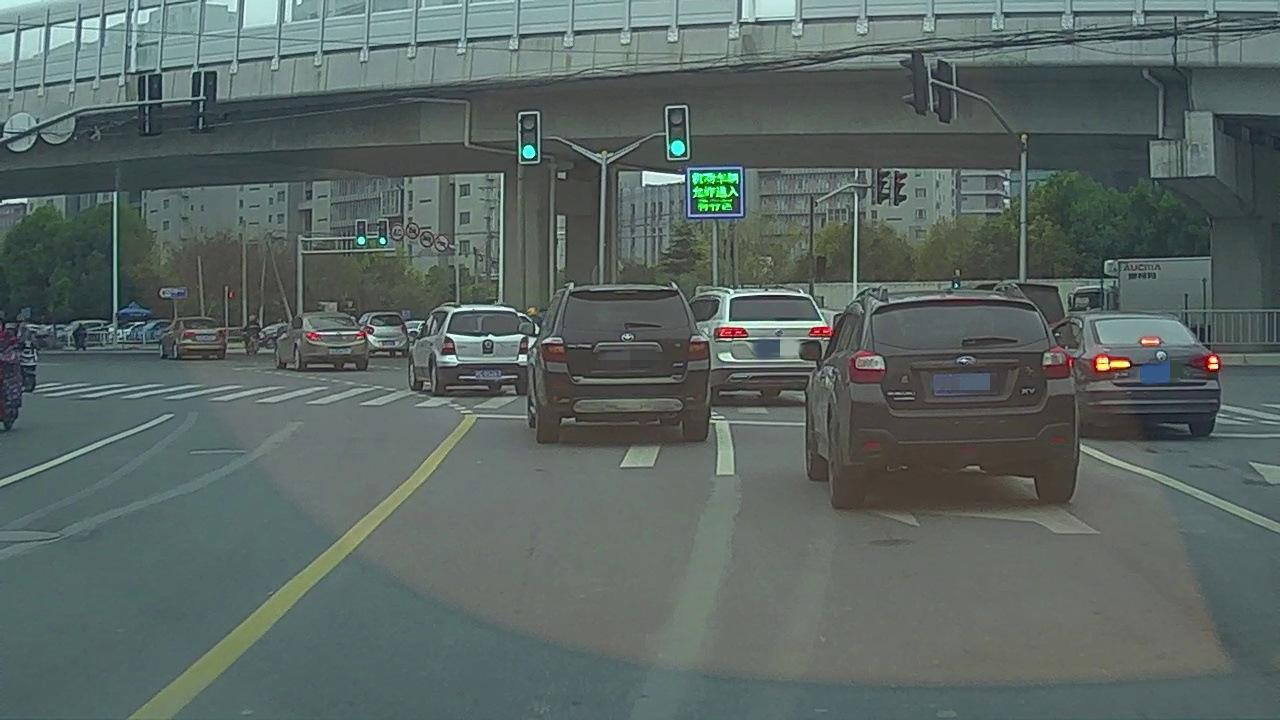traffic_light: (669, 105, 687, 161), (520, 111, 538, 162)
